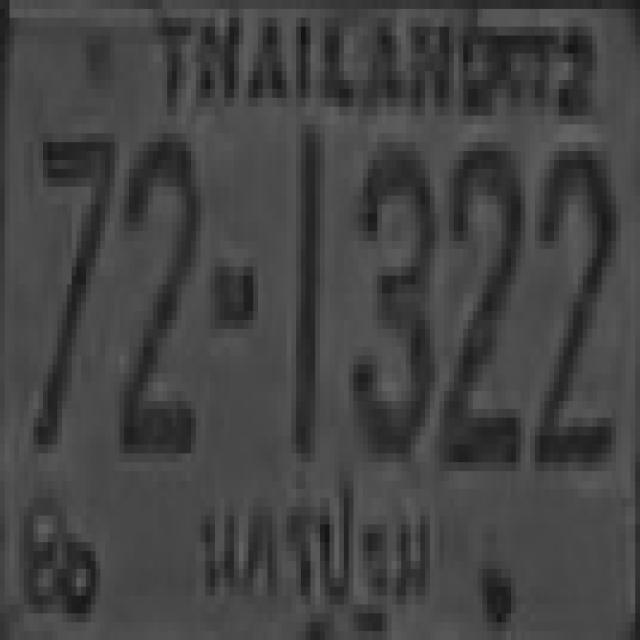1: (291, 124, 320, 453)
2: (440, 134, 520, 462), (532, 142, 614, 462), (117, 129, 198, 449)
3: (348, 142, 434, 454)
7: (31, 124, 112, 444)
NakhonPathom: (195, 462, 432, 630)
